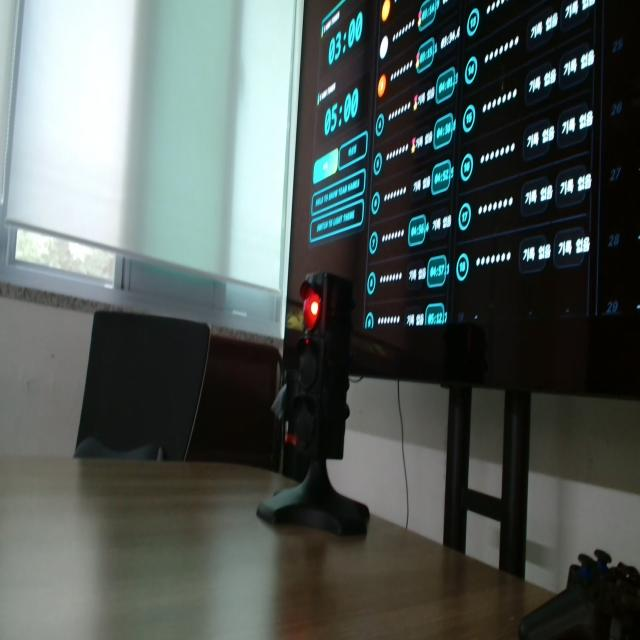red_light: (303, 288, 320, 330)
